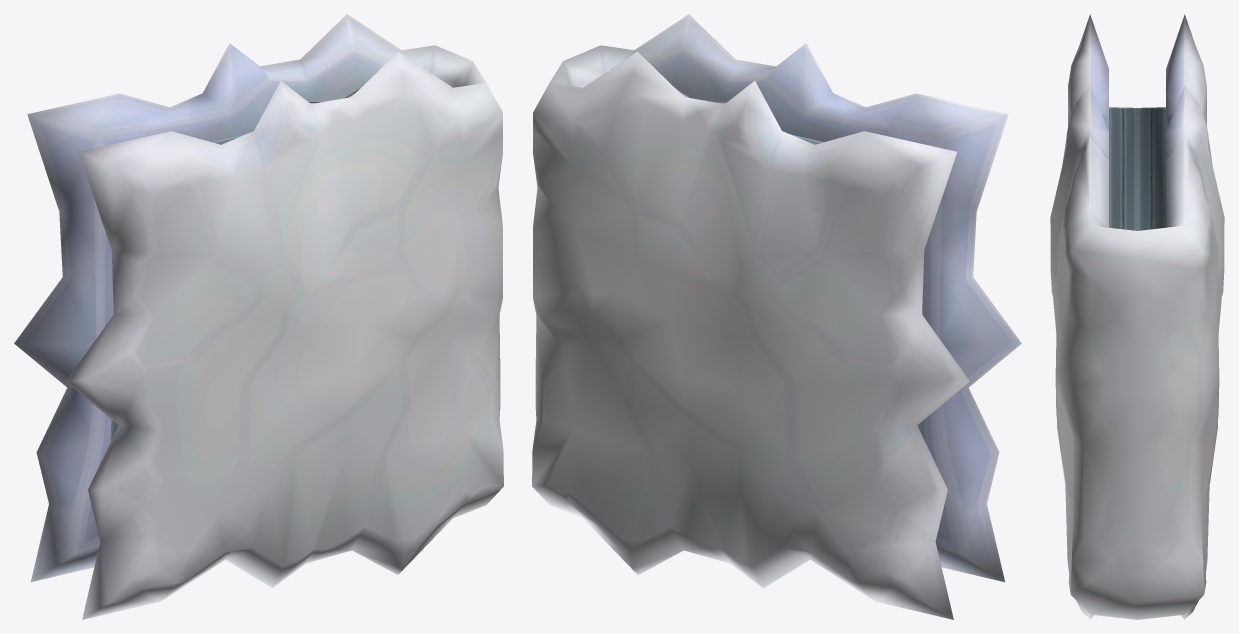
Rendered from item_weabokmgm2501-et06.glb.
3 views of the same model, side by side, from view 1: azimuth 30°, elevation 25°; view 2: azimuth 150°, elevation 25°; view 3: azimuth 270°, elevation 25° (orthographic). The views are drawn at different scales.
Visible parts, largest first — view 1: FlyffMesh; view 2: FlyffMesh; view 3: FlyffMesh.
Part boxes in pixels (x1,y1,x2,y2): FlyffMesh: (14,14,503,619); FlyffMesh: (532,14,1021,619); FlyffMesh: (1050,14,1224,619).
Bounding box in the file's own units: 0.5095 × 0.57 × 0.1864.
1 material, 1 textured.
